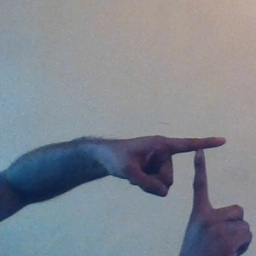T: (142, 124, 250, 231)
